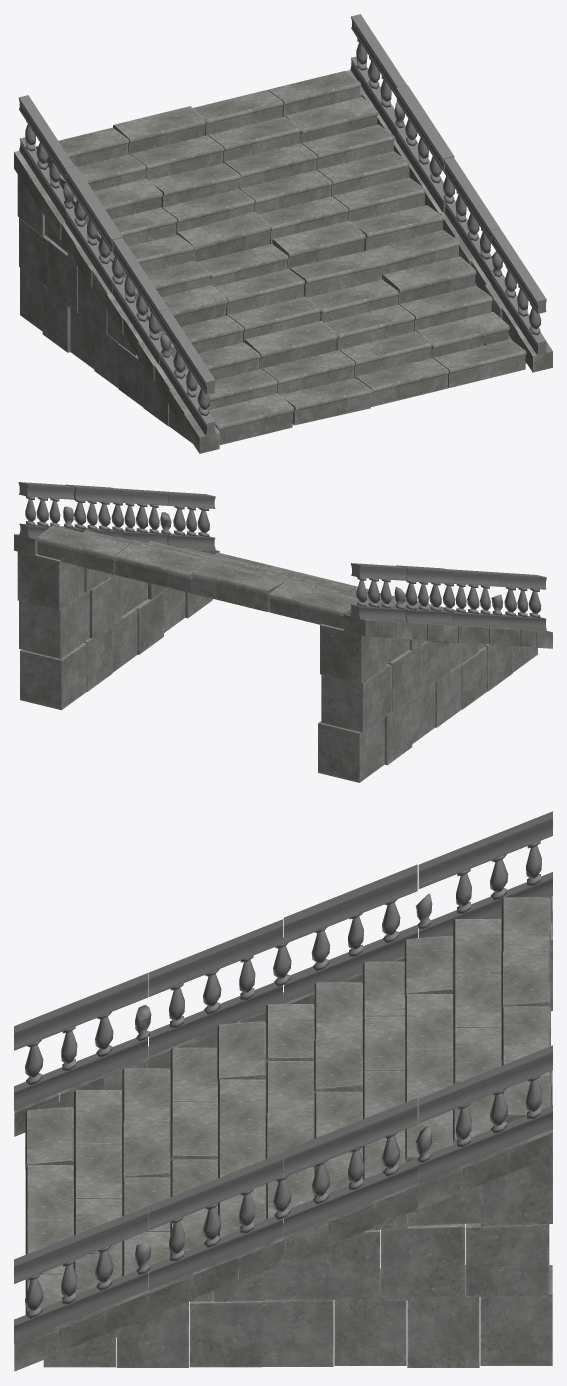
Rendered from SM_stairs_fine_02.fbx.
3 renders of one model, top to bottom at view 1: azimuth 30°, elevation 25°; view 2: azimuth 150°, elevation 25°; view 3: azimuth 270°, elevation 25°, orthographic. The views are drawn at different scales.
Parts seen in each view (by area): view 1: DarkFantasyObject58; view 2: DarkFantasyObject58; view 3: DarkFantasyObject58.
Boxes of the visible parts, x1,y1,x2,y2 form: DarkFantasyObject58: (14,14,552,453); DarkFantasyObject58: (14,482,552,782); DarkFantasyObject58: (14,811,552,1371).
Size of the model in its own units: 216 by 129 by 198.
